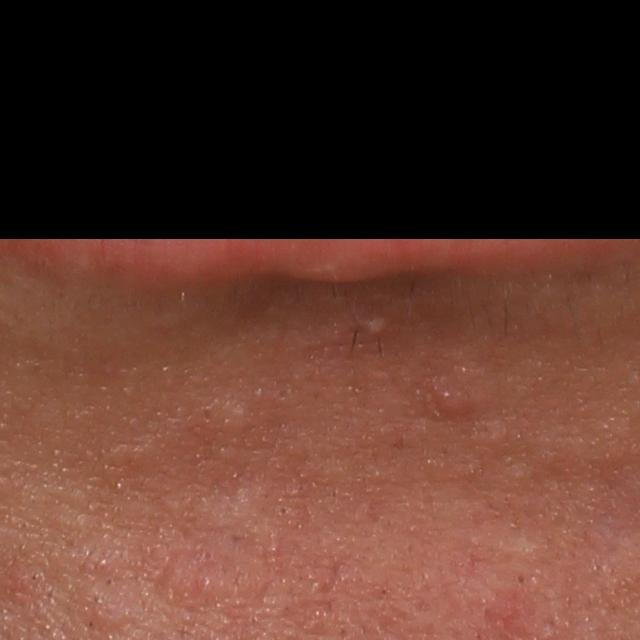hypertrophic_scar: (187, 485, 288, 558), (149, 551, 216, 608), (205, 393, 255, 439), (491, 538, 551, 565)
papule: (74, 584, 123, 632), (436, 385, 473, 416)
